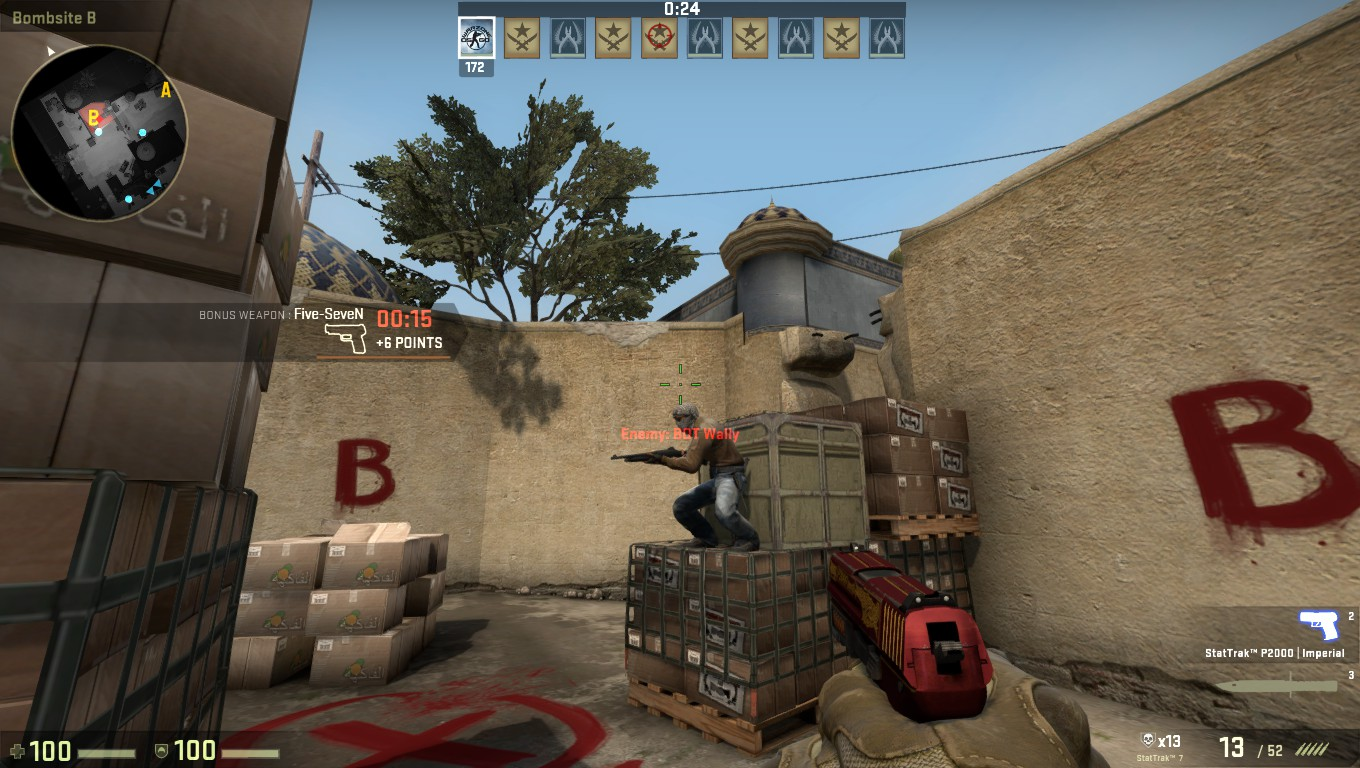t: (648, 403, 765, 552)
th: (668, 399, 711, 434)
